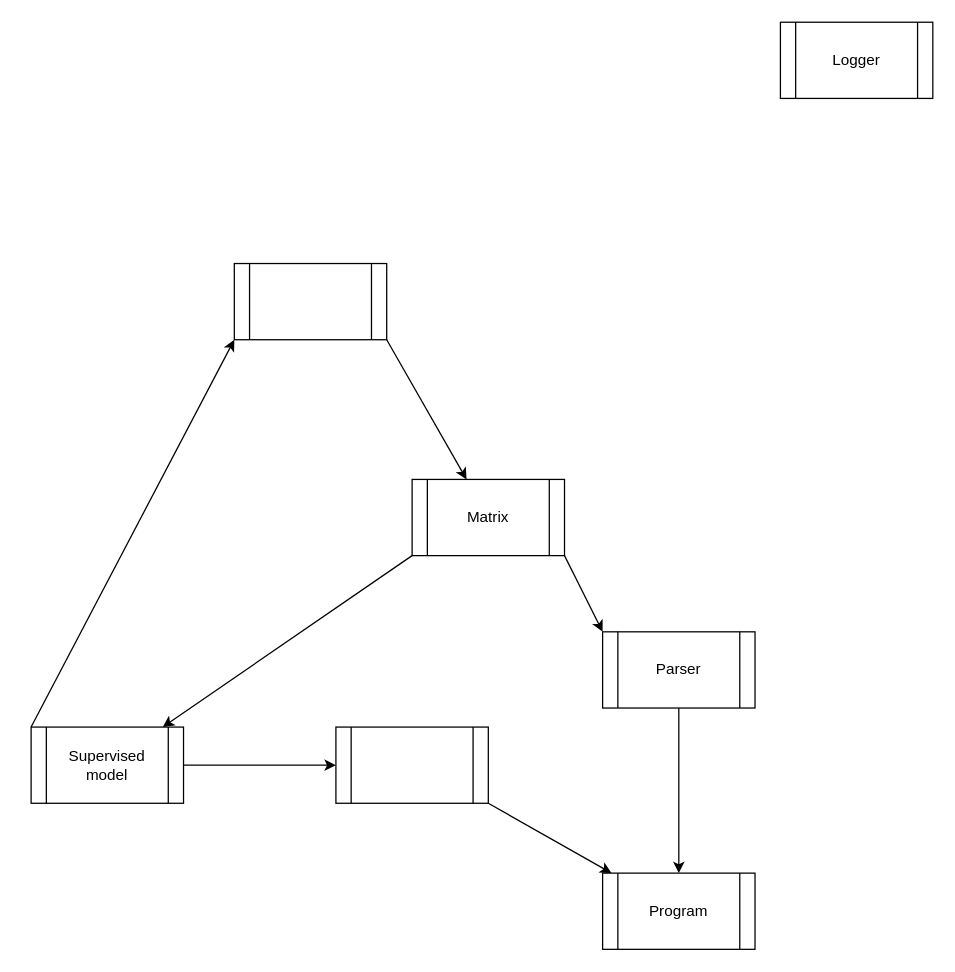
Image size: 955x972. Some labels were removed from this diagram. Here are the shapes that lost their labels. From the top down, the centre of each, then its label:
At pixel 310 301: "Utility".
At pixel 411 764: "Linear Regressor".
